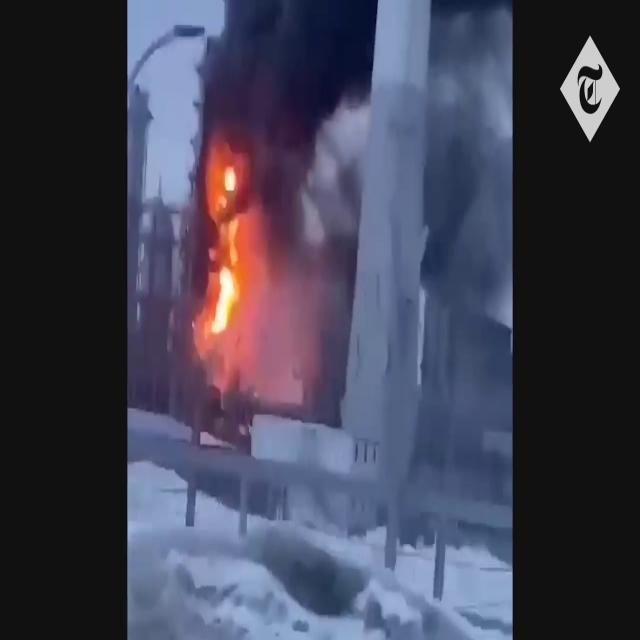Fire: (195, 143, 258, 350)
Smoke: (193, 1, 384, 224)
